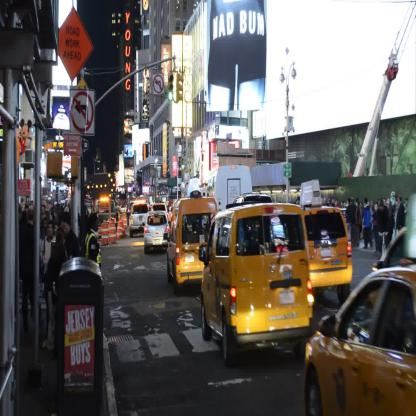car: (201, 202, 313, 366), (305, 260, 415, 415), (166, 198, 218, 292), (305, 206, 352, 303), (143, 210, 170, 254), (128, 201, 150, 237)
